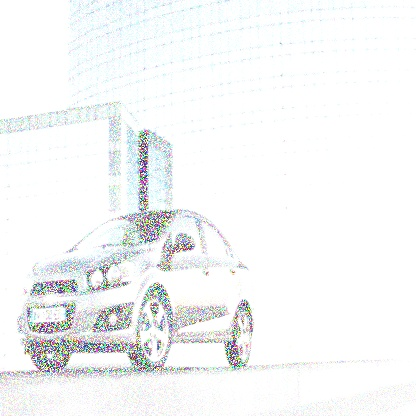Vehicle: (18, 196, 254, 370)
